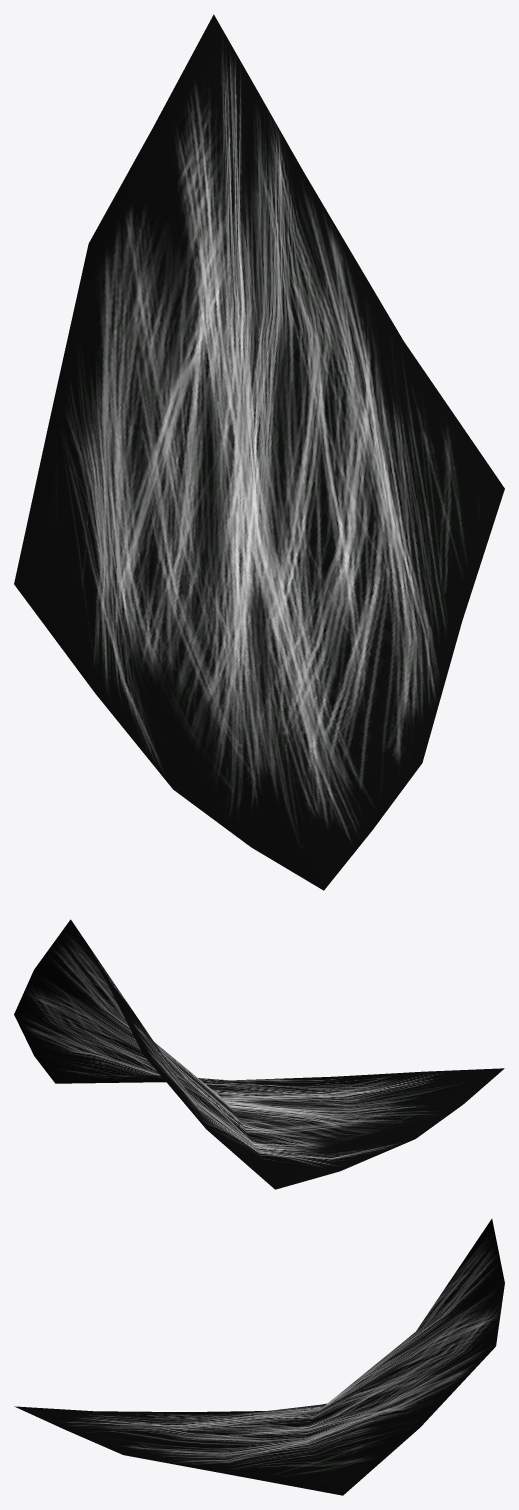
Rendered from SWORDLIGHT20_PS-AREA01_CORNERWEB23.fbx.
3 renders of one model, top to bottom at view 1: azimuth 30°, elevation 25°; view 2: azimuth 150°, elevation 25°; view 3: azimuth 270°, elevation 25°, orthographic. The views are drawn at different scales.
Visible parts, largest first — view 1: SWORDLIGHT20_PS-AREA01_CORNERWEB23; view 2: SWORDLIGHT20_PS-AREA01_CORNERWEB23; view 3: SWORDLIGHT20_PS-AREA01_CORNERWEB23.
Boxes of the visible parts, <box> form: SWORDLIGHT20_PS-AREA01_CORNERWEB23: <box>14,14,504,890</box>; SWORDLIGHT20_PS-AREA01_CORNERWEB23: <box>14,919,504,1189</box>; SWORDLIGHT20_PS-AREA01_CORNERWEB23: <box>14,1219,504,1495</box>.
Size of the model in its own units: 35438 by 35558 by 56481.
Materials: 1 (1 with a texture image).
